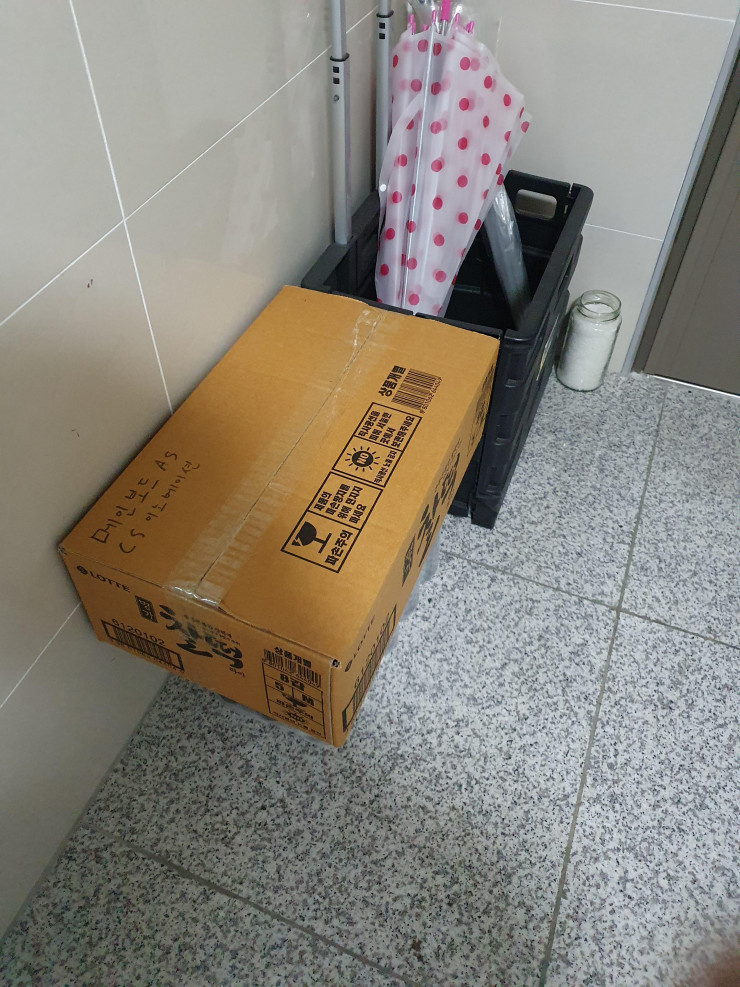undamaged: (54, 275, 502, 752)
